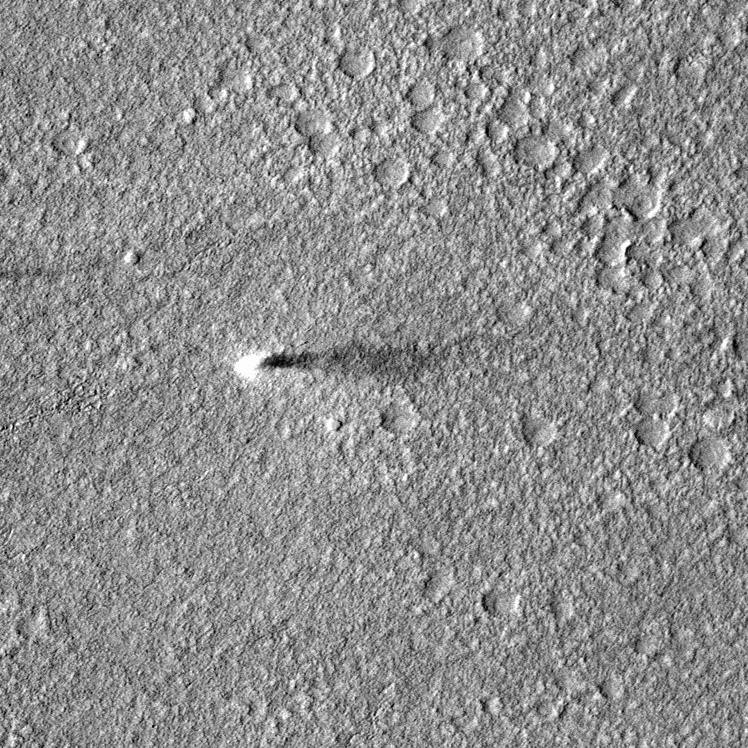dust_devil: (231, 339, 449, 387)
